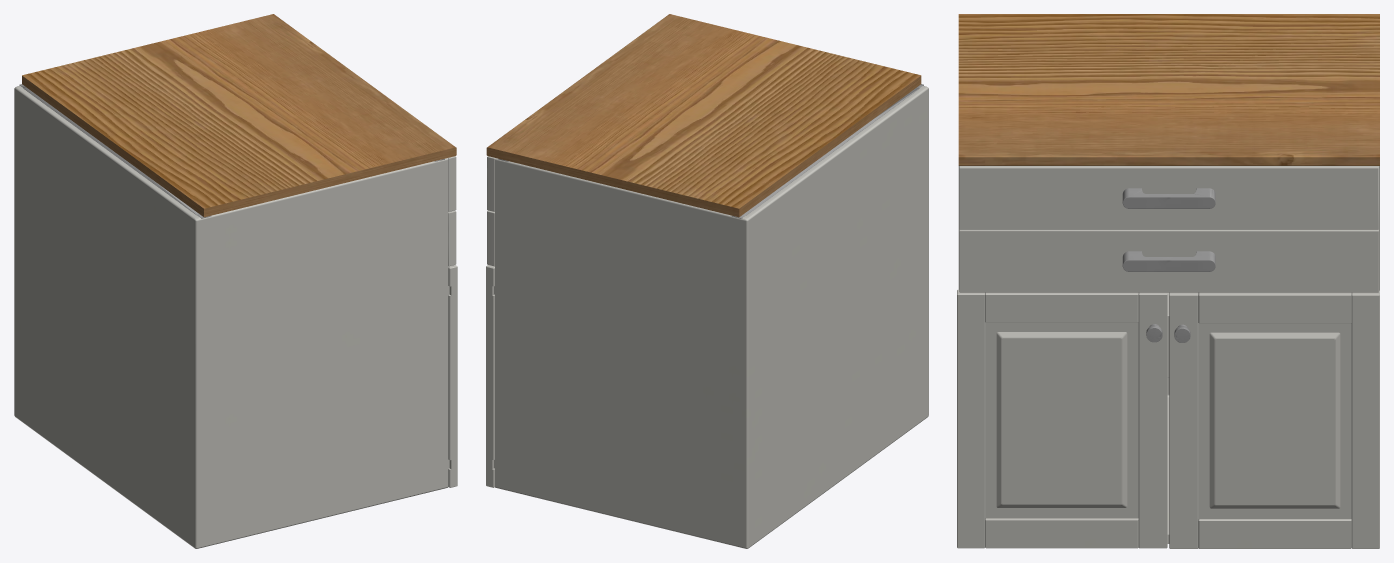
The model's file is labware_cabinet_a01.glb.
3 views of the same model, side by side, from view 1: azimuth 30°, elevation 25°; view 2: azimuth 150°, elevation 25°; view 3: azimuth 270°, elevation 25° (orthographic). The views are drawn at different scales.
Parts seen in each view (by area): view 1: part_door_01_mesh_00, part_mainBody_mesh_00, part_drawer_01_mesh_00; view 2: part_door_01_mesh_00, part_mainBody_mesh_00, part_drawer_01_mesh_00; view 3: part_door_01_mesh_00, part_mainBody_mesh_00, part_drawer_01_mesh_00.
Part boxes in pixels (box(x1,y1,x2,y2)): part_door_01_mesh_00: box(14, 84, 457, 548); part_mainBody_mesh_00: box(22, 14, 456, 217); part_drawer_01_mesh_00: box(448, 156, 456, 266); part_door_01_mesh_00: box(486, 84, 928, 548); part_mainBody_mesh_00: box(486, 14, 921, 217); part_drawer_01_mesh_00: box(487, 156, 495, 266); part_door_01_mesh_00: box(957, 166, 1379, 548); part_mainBody_mesh_00: box(958, 14, 1379, 165); part_drawer_01_mesh_00: box(959, 166, 1378, 377).
Size of the model in its own units: 0.6685 by 0.783 by 0.765.
Materials: 3 (3 with a texture image).
